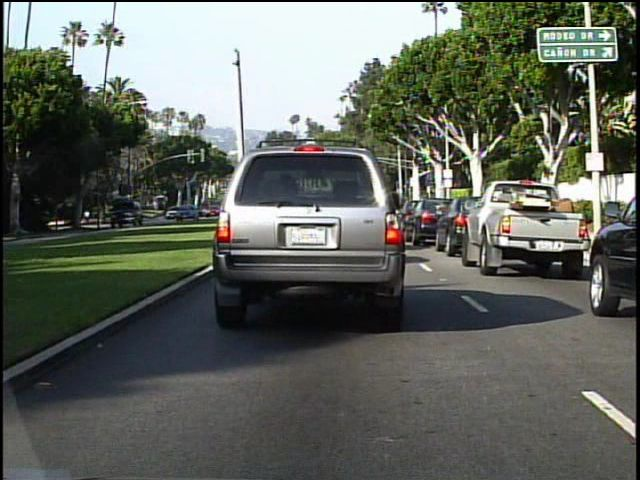person: (82, 207, 93, 227)
